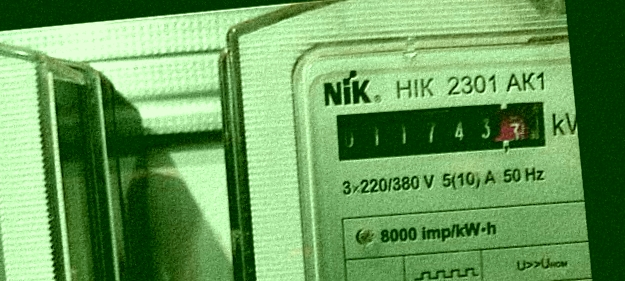0: (341, 122, 357, 151)
1: (368, 120, 384, 149), (396, 118, 411, 147)
3: (477, 114, 493, 142), (507, 121, 523, 144)
4: (451, 118, 467, 144)
7: (423, 118, 439, 145)
screen: (327, 89, 558, 175)
